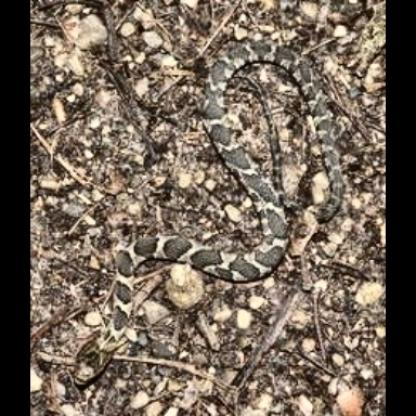Snake: (67, 37, 350, 404)
